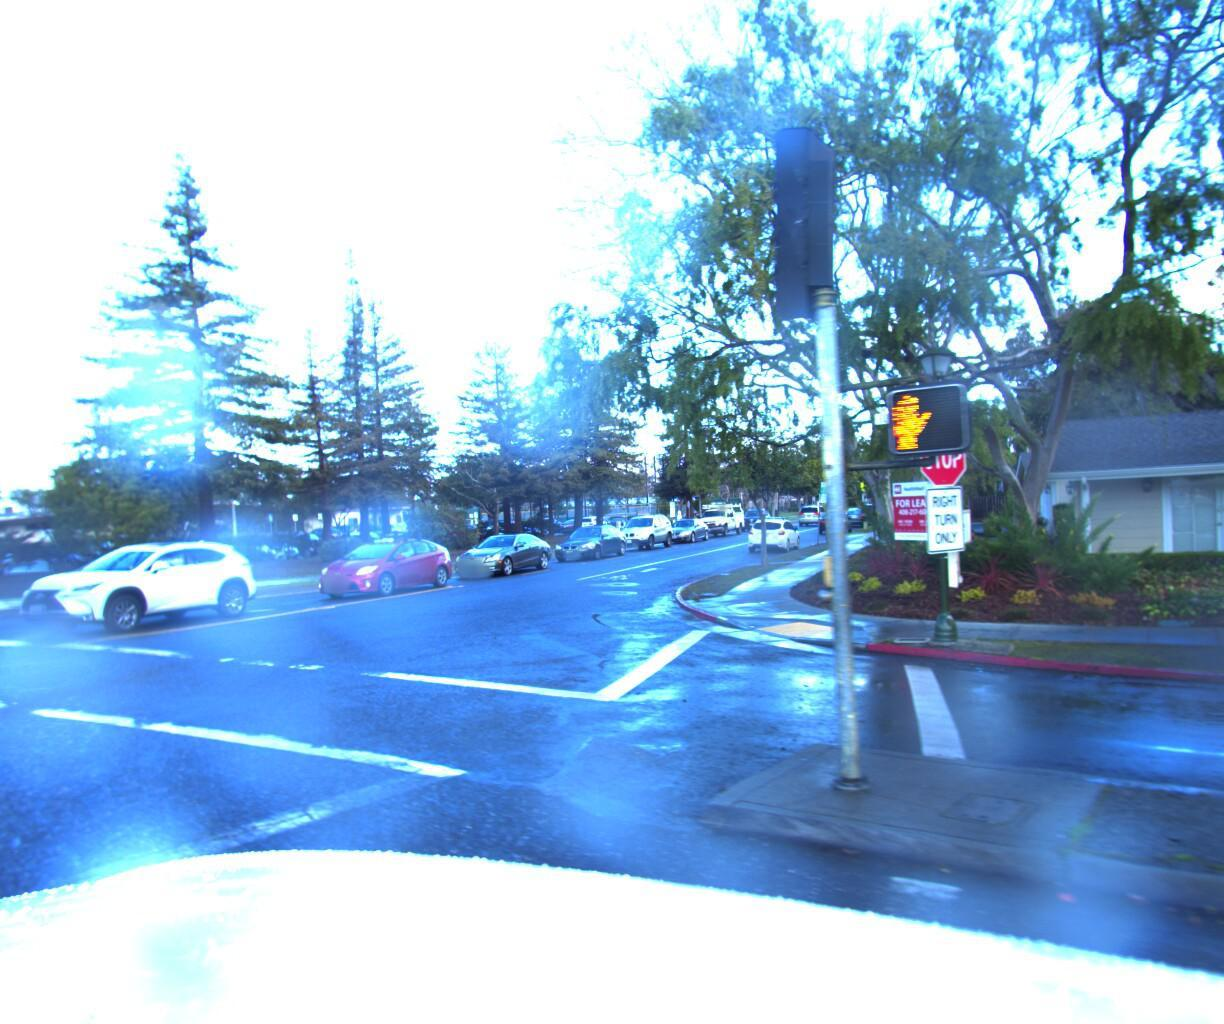car: (0, 535, 270, 640), (305, 529, 462, 601), (445, 533, 556, 580), (548, 526, 630, 563), (744, 516, 803, 556), (614, 519, 675, 551), (693, 502, 747, 538), (660, 515, 711, 544), (815, 511, 853, 538), (740, 508, 774, 535), (841, 508, 871, 530), (796, 505, 827, 526)
